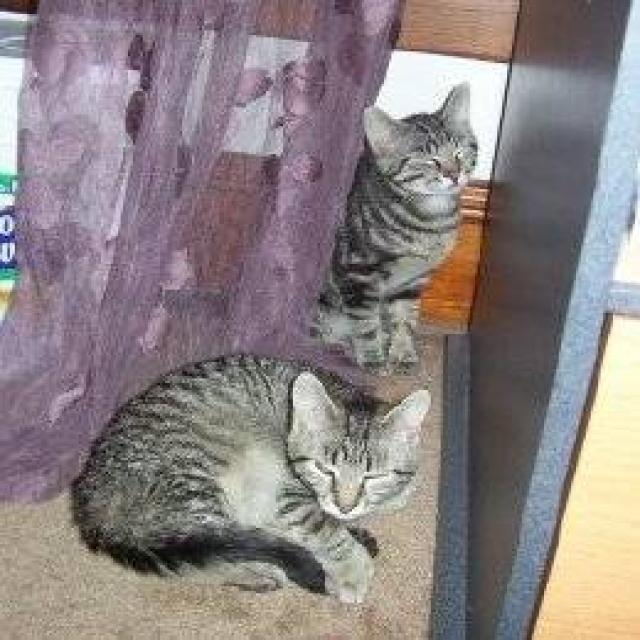cat: (69, 350, 431, 605)
